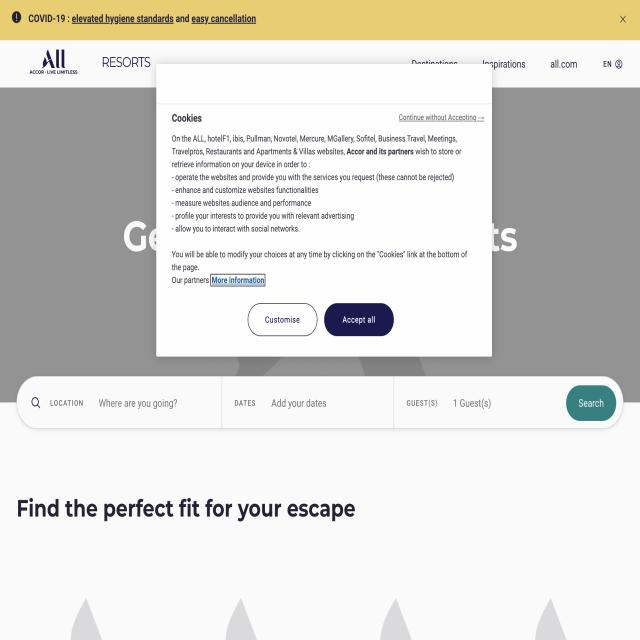Logo: (20, 45, 85, 79)
